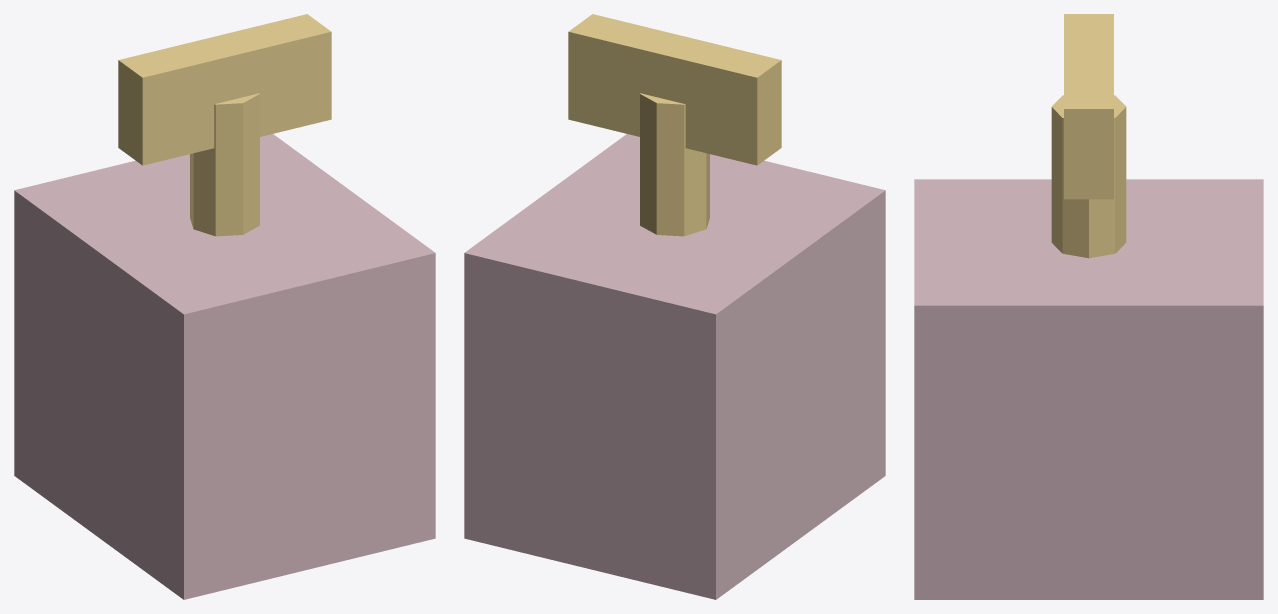
Rendered from jouet.glb.
3 views of the same model, side by side, from view 1: azimuth 30°, elevation 25°; view 2: azimuth 150°, elevation 25°; view 3: azimuth 270°, elevation 25° (orthographic). The views are drawn at different scales.
Visible parts, largest first — view 1: jouet_body, jouet_key_bow, jouet_key_stem; view 2: jouet_body, jouet_key_bow, jouet_key_stem; view 3: jouet_body, jouet_key_bow, jouet_key_stem.
Boxes of the visible parts, x1=… form: jouet_body: x1=14, y1=134, x2=435, y2=599; jouet_key_bow: x1=118, y1=14, x2=331, y2=165; jouet_key_stem: x1=190, y1=93, x2=259, y2=236; jouet_body: x1=464, y1=134, x2=885, y2=599; jouet_key_bow: x1=568, y1=14, x2=781, y2=165; jouet_key_stem: x1=640, y1=93, x2=709, y2=236; jouet_body: x1=914, y1=179, x2=1263, y2=599; jouet_key_bow: x1=1064, y1=14, x2=1113, y2=199; jouet_key_stem: x1=1051, y1=95, x2=1126, y2=258.
Bounding box in the file's own units: 0.24 × 0.42 × 0.28.
